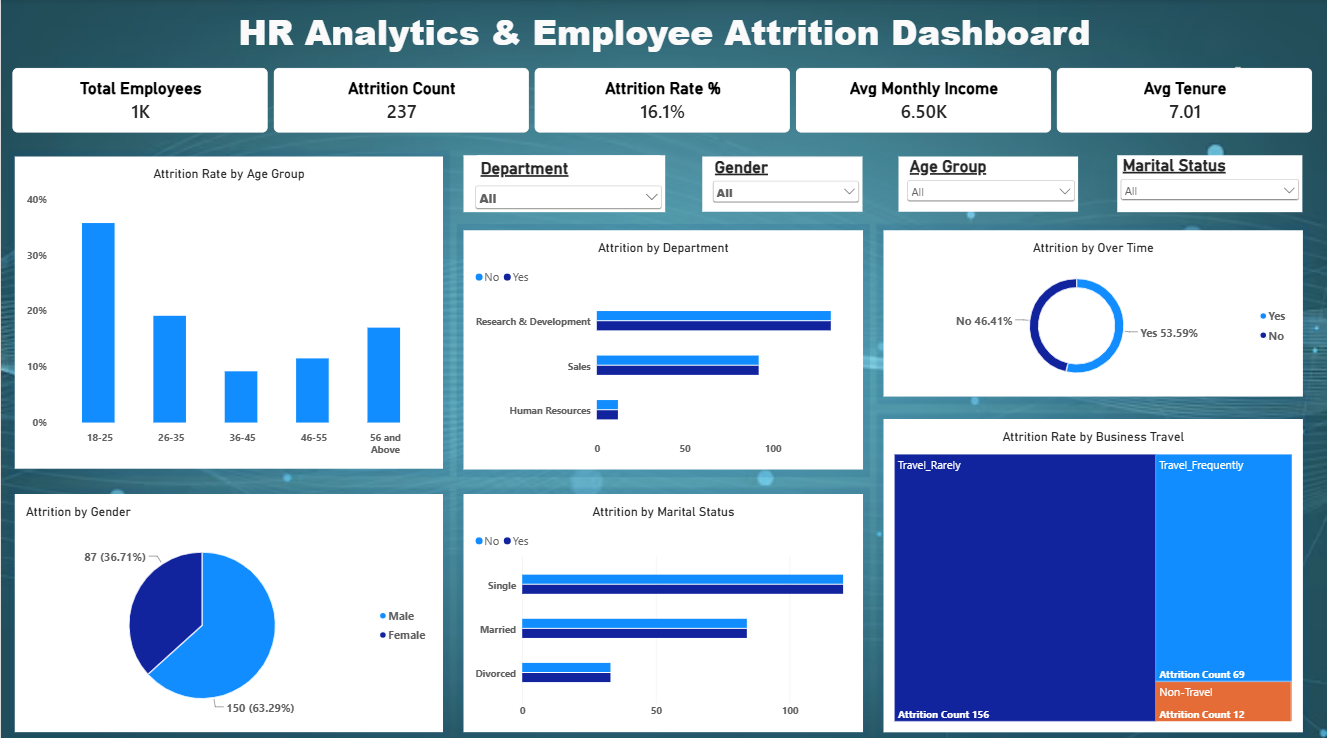

Layout of this report page (visuals, bound fields, positions):
{"tool":"powerbi","page":{"name":"Attrition Overview","canvas":[1920,1080],"ordinal":0},"visuals":[{"type":"cardVisual","fields":{"Data":["EmployeeData.Total Employees","EmployeeData.Attrition Count","EmployeeData.Attrition Rate %","EmployeeData.Avg Monthly Income","EmployeeData.Avg Years At Company"]},"box":[16.4,100,1883.9,108.9],"z":0},{"type":"clusteredBarChart","title":"Attrition by Department ","fields":{"Category":["EmployeeData.Department"],"Series":["EmployeeData.Attrition"],"Y":["EmployeeData.Attrition Count"]},"box":[669.6,333.9,578.6,346.4],"z":1000},{"type":"clusteredColumnChart","title":"Attrition Rate by Age Group","fields":{"Category":["EmployeeData.AgeGroup"],"Y":["EmployeeData.Attrition Rate %"]},"box":[19.6,228.6,619.6,451.8],"z":2000},{"type":"donutChart","title":"Attrition by Over Time","fields":{"Category":["EmployeeData.OverTime"],"Y":["EmployeeData.Attrition Count"]},"box":[1276.8,333.9,607.1,241.1],"z":3000},{"type":"pieChart","title":"Attrition by Gender","fields":{"Category":["EmployeeData.Gender"],"Y":["EmployeeData.Attrition Count"]},"box":[19.6,716.1,619.6,344.6],"z":4000},{"type":"clusteredBarChart","title":"Attrition by Marital Status ","fields":{"Category":["EmployeeData.MaritalStatus"],"Series":["EmployeeData.Attrition"],"Y":["EmployeeData.Attrition Count"]},"box":[669.6,716.1,578.6,344.6],"z":5000},{"type":"treemap","title":"Attrition Rate by Business Travel","fields":{"Group":["EmployeeData.BusinessTravel"],"Values":["EmployeeData.Attrition Rate %","EmployeeData.Attrition Count"]},"box":[1276.8,607.1,607.1,453.6],"z":6000},{"type":"slicer","fields":{"Values":["EmployeeData.MaritalStatus"]},"box":[1616,226,268,82],"z":7000},{"type":"slicer","fields":{"Values":["EmployeeData.AgeGroup"]},"box":[1300,228,260,80],"z":8000},{"type":"slicer","fields":{"Values":["EmployeeData.Gender"]},"box":[1016,228,232,80],"z":9000},{"type":"slicer","fields":{"Values":["EmployeeData.Department"]},"box":[670,226,292,82],"z":10000},{"type":"textbox","title":"HR Analytics & Employee Attrition Dashboard","box":[126.8,12.5,1667.9,87.5],"z":11001}]}

Visuals, with their boxes in screenshot pixels (x1, y1, x2, y2), scaled from the page's 1920x1080 canvas onto the 1327x738 screenshot:
cardVisual - EmployeeData.Total Employees x EmployeeData.Attrition Count: [11, 68, 1313, 143]
"Attrition by Department " clusteredBarChart: [463, 228, 863, 465]
"Attrition Rate by Age Group" clusteredColumnChart: [14, 156, 442, 465]
"Attrition by Over Time" donutChart: [882, 228, 1302, 393]
"Attrition by Gender" pieChart: [14, 489, 442, 725]
"Attrition by Marital Status " clusteredBarChart: [463, 489, 863, 725]
"Attrition Rate by Business Travel" treemap: [882, 415, 1302, 725]
slicer - EmployeeData.MaritalStatus: [1117, 154, 1302, 210]
slicer - EmployeeData.AgeGroup: [898, 156, 1078, 210]
slicer - EmployeeData.Gender: [702, 156, 863, 210]
slicer - EmployeeData.Department: [463, 154, 665, 210]
"HR Analytics & Employee Attrition Dashboard" textbox: [88, 9, 1240, 68]
